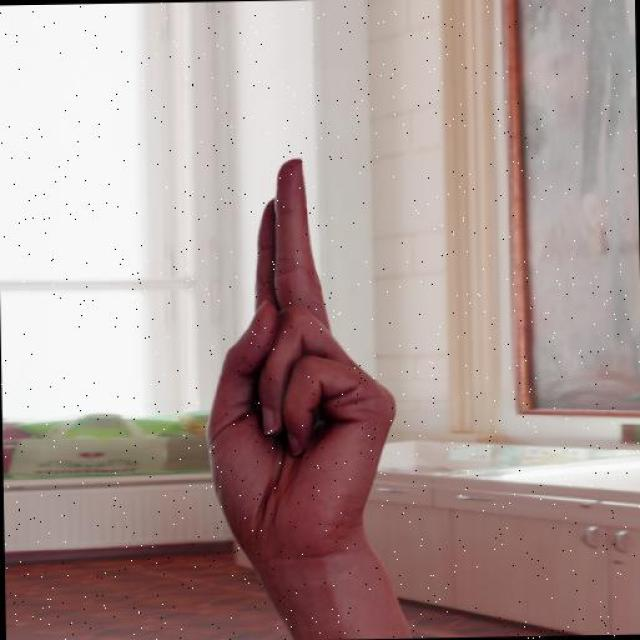U: (196, 155, 400, 564)
